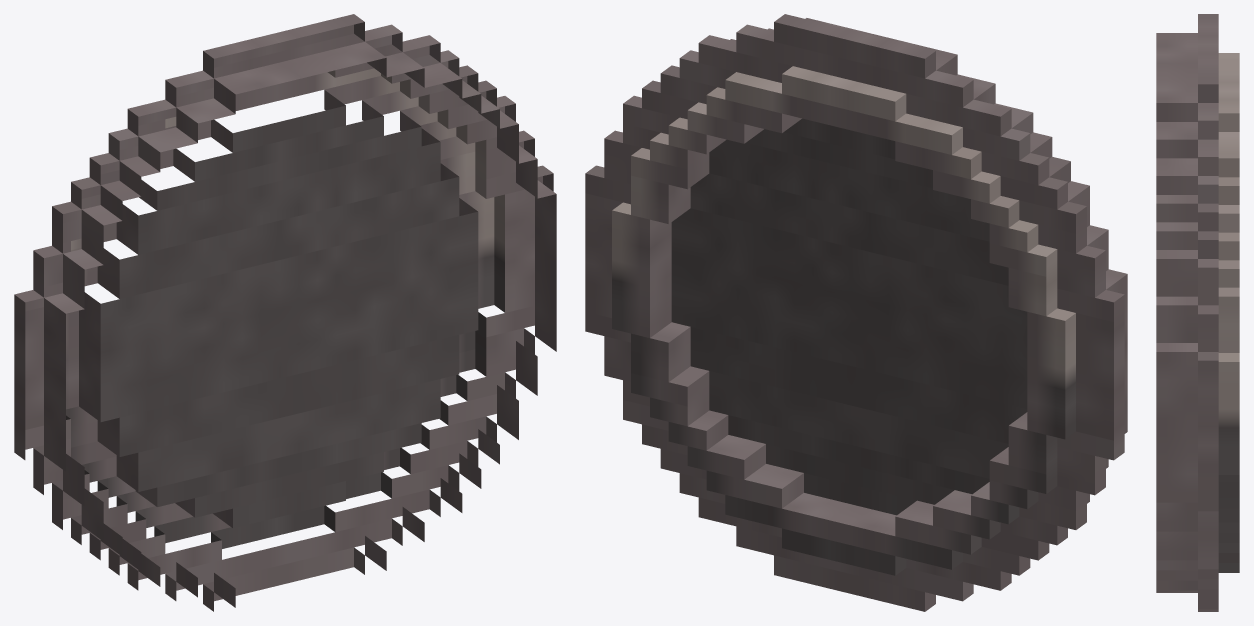
Rendered from DoorLock_Socket.fbx.
3 views of the same model, side by side, from view 1: azimuth 30°, elevation 25°; view 2: azimuth 150°, elevation 25°; view 3: azimuth 270°, elevation 25° (orthographic). The views are drawn at different scales.
Parts seen in each view (by area): view 1: Door_lock_socket_1; view 2: Door_lock_socket_1; view 3: Door_lock_socket_1.
Boxes of the visible parts, left/top/right/bottom form: Door_lock_socket_1: left=14, top=14, right=556, bottom=611; Door_lock_socket_1: left=585, top=14, right=1127, bottom=611; Door_lock_socket_1: left=1156, top=14, right=1239, bottom=611.
Bounding box in the file's own units: 28 × 28 × 4.
1 material, 1 textured.
